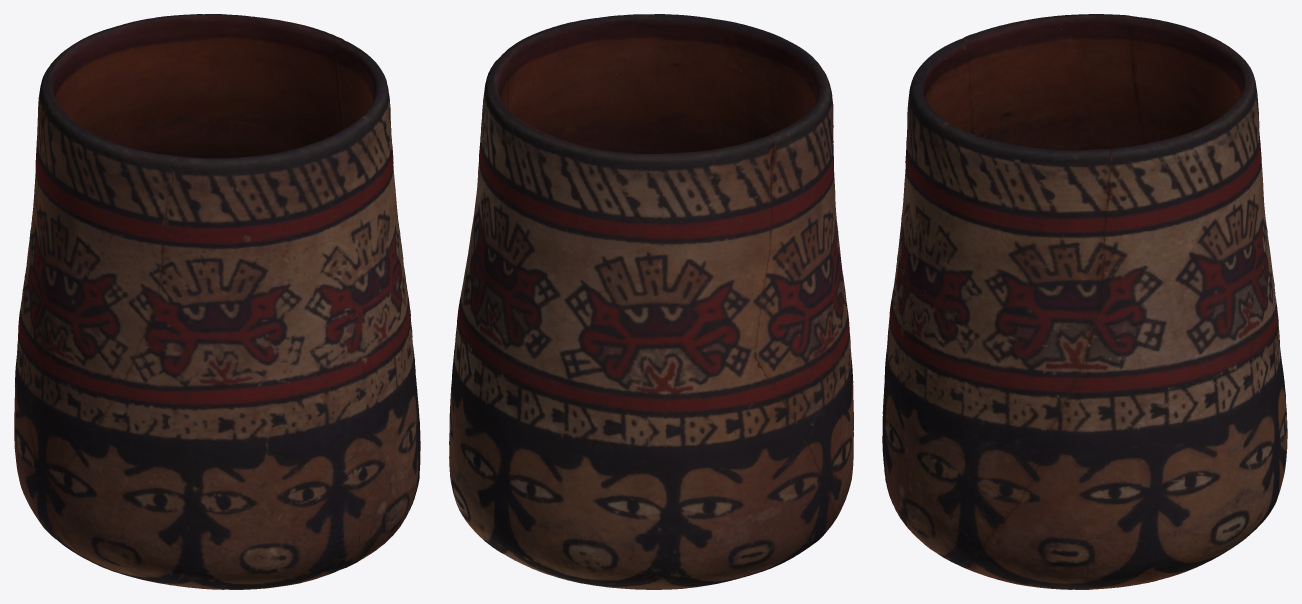
3 renders of one model, left to right at view 1: azimuth 30°, elevation 25°; view 2: azimuth 150°, elevation 25°; view 3: azimuth 270°, elevation 25°, orthographic.
Bounding box in the file's own units: 63.03 × 81.83 × 64.06.
1 material, 1 textured.
